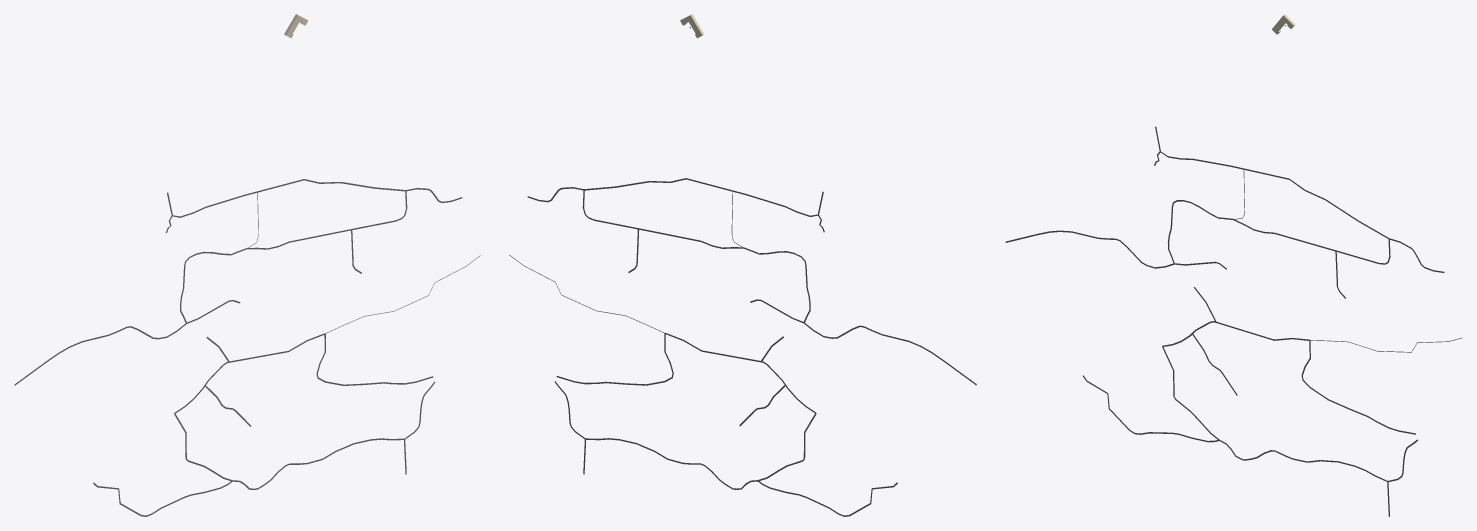
File: historic-palestine-11_26_3525_3203.glb
3 views of the same model, side by side, from view 1: azimuth 30°, elevation 25°; view 2: azimuth 150°, elevation 25°; view 3: azimuth 330°, elevation 25° (orthographic). The views are drawn at different scales.
Parts seen in each view (by area): view 1: Road .002, Road .009; view 2: Road .002, Road .009; view 3: Road .002, Road .009.
Part boxes in pixels (box(x1,y1,x2,y2)): Road .002: box(167, 179, 462, 217); Road .009: box(180, 191, 407, 323); Road .002: box(527, 178, 823, 216); Road .009: box(582, 190, 810, 322); Road .002: box(1155, 126, 1444, 273); Road .009: box(1167, 200, 1390, 264).
Bounding box in the file's own units: 1086 × 1080 × 8.7.
